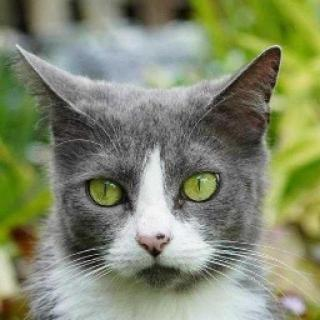cat: (26, 40, 294, 294)
nose: (130, 213, 180, 262)
